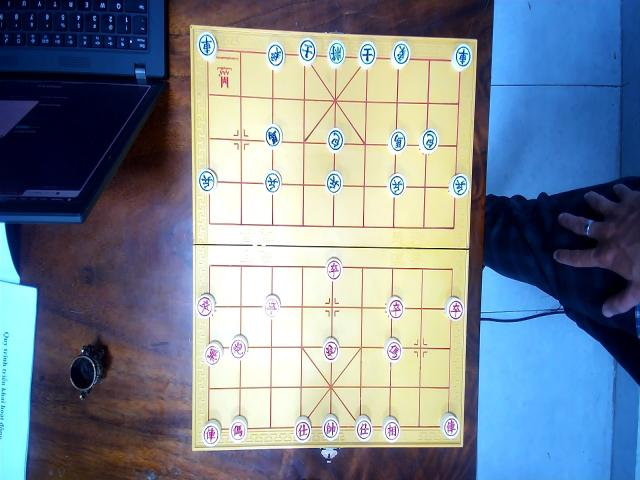piece: (451, 43, 473, 72), (326, 39, 346, 68), (197, 31, 217, 60), (448, 172, 469, 199), (390, 41, 410, 69), (202, 419, 222, 447), (266, 41, 285, 70), (440, 412, 460, 439), (203, 341, 223, 368), (358, 41, 378, 68), (444, 296, 464, 322), (419, 128, 439, 154), (381, 416, 400, 443), (326, 126, 345, 153), (294, 416, 312, 444), (299, 38, 317, 66), (229, 416, 247, 444), (197, 168, 217, 193), (195, 293, 215, 318), (387, 129, 407, 154), (383, 337, 402, 363), (322, 414, 340, 441), (354, 415, 372, 441), (322, 336, 340, 362), (386, 295, 404, 320), (325, 256, 343, 281), (388, 172, 406, 197), (264, 124, 282, 149), (230, 334, 248, 359), (325, 170, 343, 194), (264, 171, 281, 194), (264, 294, 280, 317)
